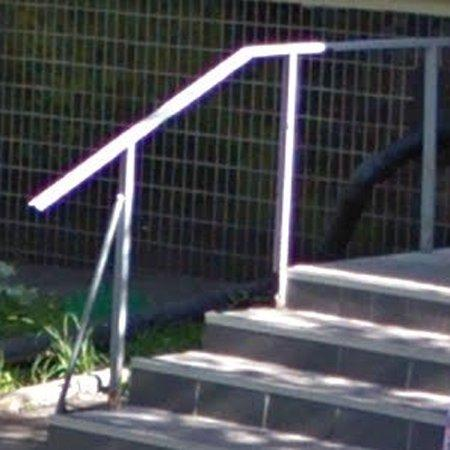stairs: (49, 251, 450, 450)
